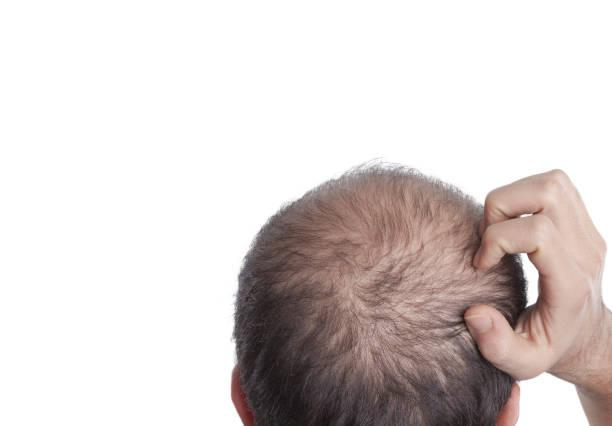low hair density: (305, 241, 452, 341)
